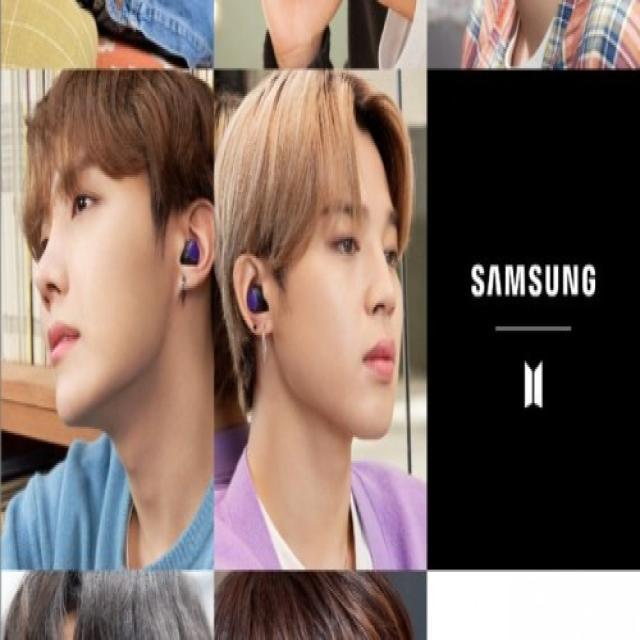earphone: (175, 234, 213, 294), (237, 275, 273, 330)
